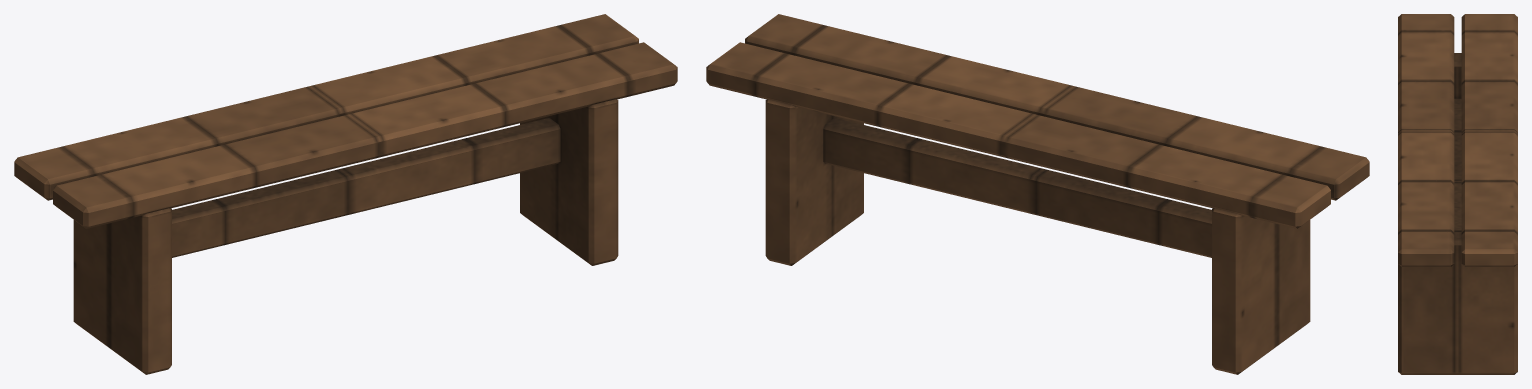
The model's file is Prop_Bench.fbx.
3 views of the same model, side by side, from view 1: azimuth 30°, elevation 25°; view 2: azimuth 150°, elevation 25°; view 3: azimuth 270°, elevation 25° (orthographic). The views are drawn at different scales.
Parts seen in each view (by area): view 1: Prop_Bench; view 2: Prop_Bench; view 3: Prop_Bench.
Boxes of the visible parts, x1,y1,x2,y2 form: Prop_Bench: (14, 14, 677, 374); Prop_Bench: (706, 14, 1369, 374); Prop_Bench: (1398, 14, 1517, 374).
Size of the model in its own units: 1.6 by 0.4675 by 0.34.
